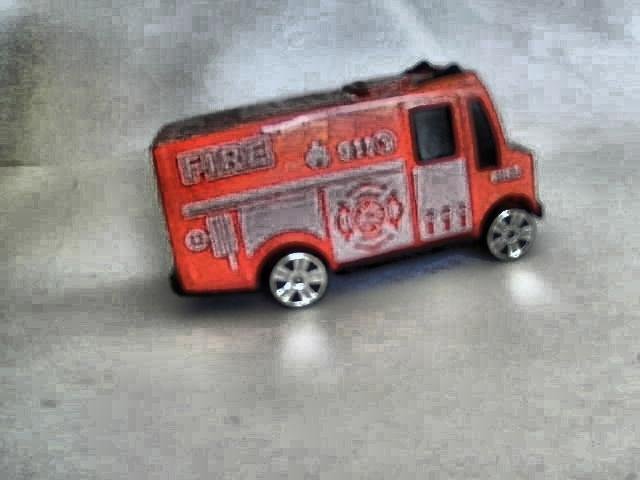fire_truck: (147, 61, 543, 308)
